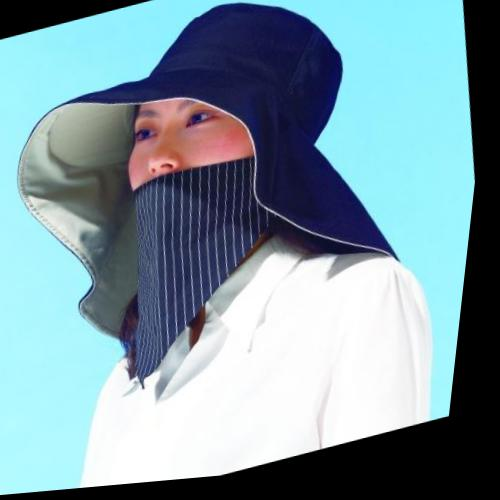WRONG: (108, 66, 294, 273)
